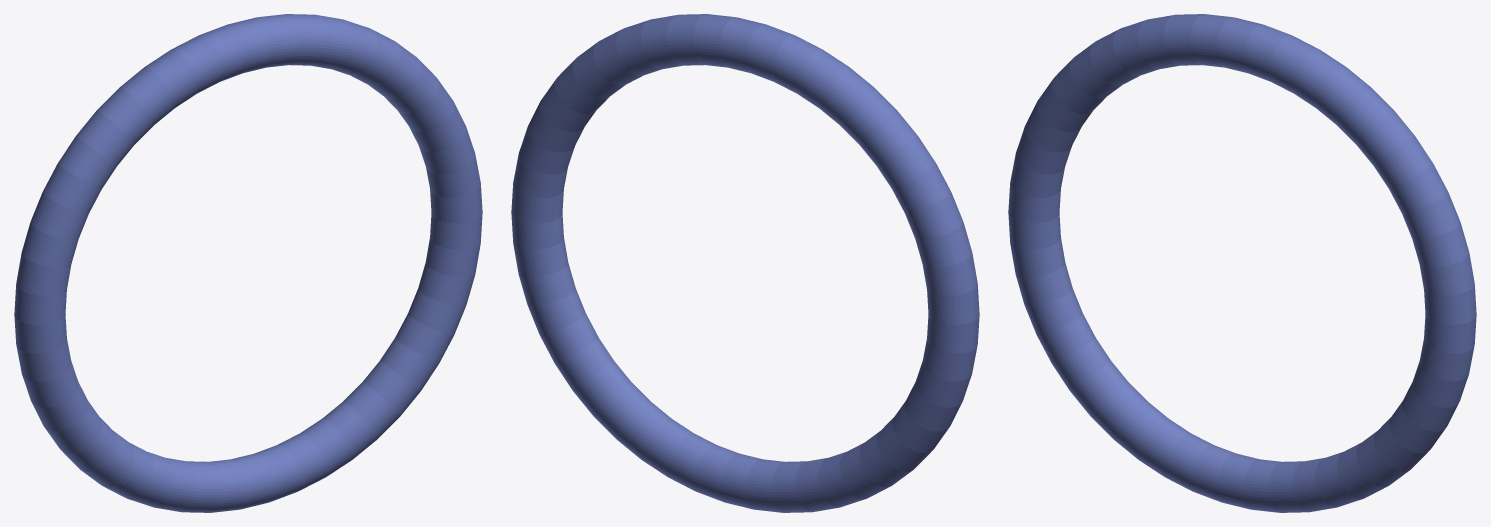
3 views of the same model, side by side, from view 1: azimuth 30°, elevation 25°; view 2: azimuth 150°, elevation 25°; view 3: azimuth 330°, elevation 25° (orthographic).
Parts seen in each view (by area): view 1: world; view 2: world; view 3: world.
Boxes of the visible parts, bbox=[...] form: world: bbox=[14, 14, 482, 512]; world: bbox=[511, 14, 979, 512]; world: bbox=[1008, 14, 1476, 512].
Bounding box in the file's own units: 23.6 × 23.55 × 2.26.
